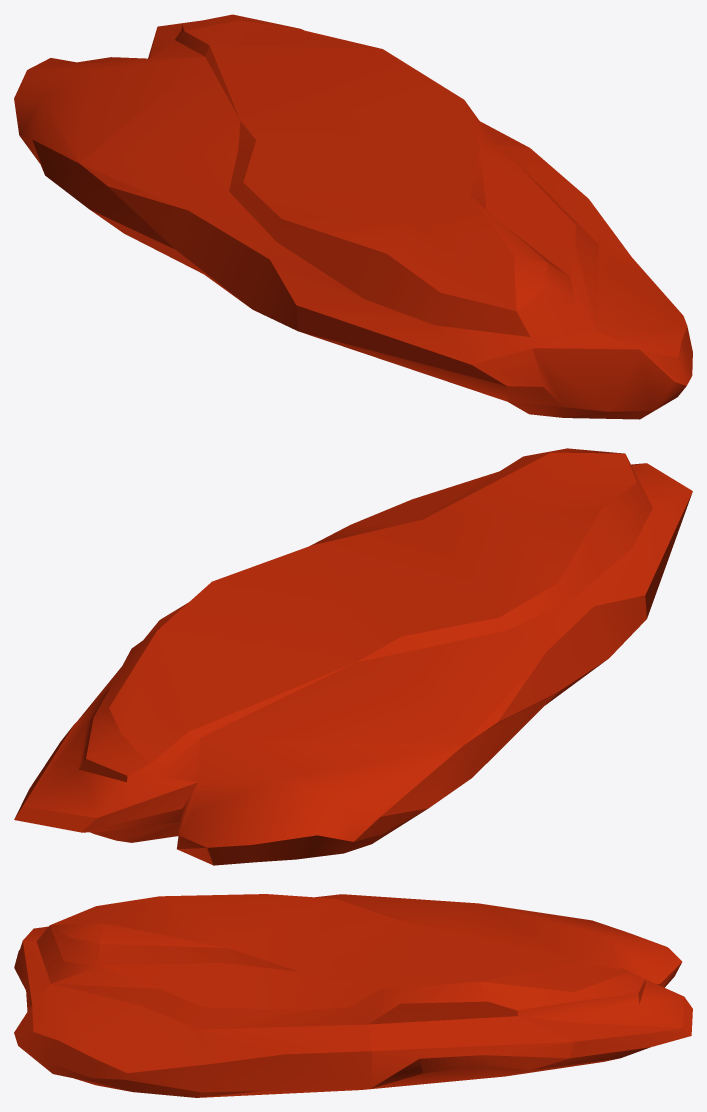
Rendered from SM_Sharp_Rock_03.fbx.
The picture shows the model from 3 angles, top to bottom: view 1: azimuth 30°, elevation 25°; view 2: azimuth 150°, elevation 25°; view 3: azimuth 270°, elevation 25°; orthographic projection. The views are drawn at different scales.
Parts seen in each view (by area): view 1: SM_Sharp_Rock_03; view 2: SM_Sharp_Rock_03; view 3: SM_Sharp_Rock_03.
Part boxes in pixels (<box>): SM_Sharp_Rock_03: <box>14,14,692,419</box>; SM_Sharp_Rock_03: <box>14,448,692,865</box>; SM_Sharp_Rock_03: <box>14,894,692,1097</box>.
Bounding box in the file's own units: 242 × 97.22 × 508.
